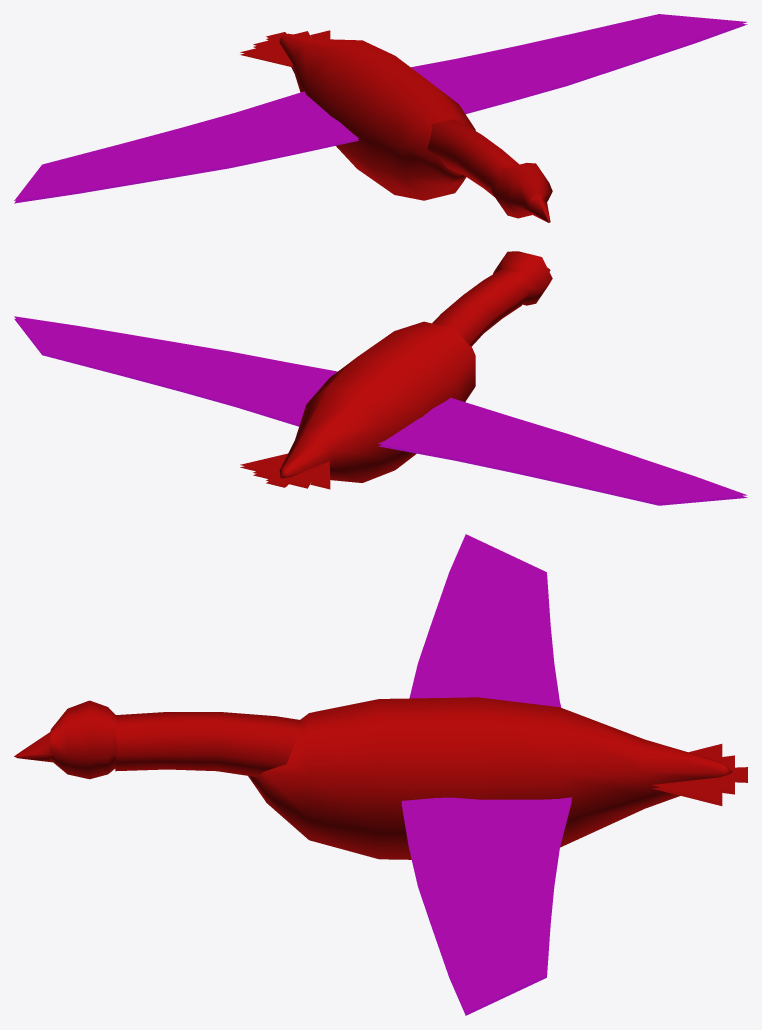
The model's file is swan.glb.
3 views of the same model, one above another, from view 1: azimuth 30°, elevation 25°; view 2: azimuth 150°, elevation 25°; view 3: azimuth 270°, elevation 25° (orthographic). The views are drawn at different scales.
Visible parts, largest first — view 1: bird; view 2: bird; view 3: bird.
Part boxes in pixels (x1,y1,x2,y2): bird: [14, 14, 747, 222]; bird: [14, 251, 747, 505]; bird: [14, 534, 747, 1015].
Bounding box in the file's own units: 2.4 × 0.3242 × 1.55.
